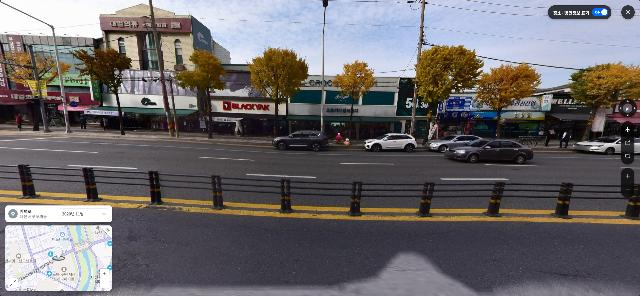ginkgo: (413, 44, 484, 146), (0, 46, 75, 132), (561, 61, 640, 138), (247, 46, 309, 138), (69, 47, 132, 135), (472, 63, 544, 140), (173, 51, 227, 139), (329, 60, 378, 145)
